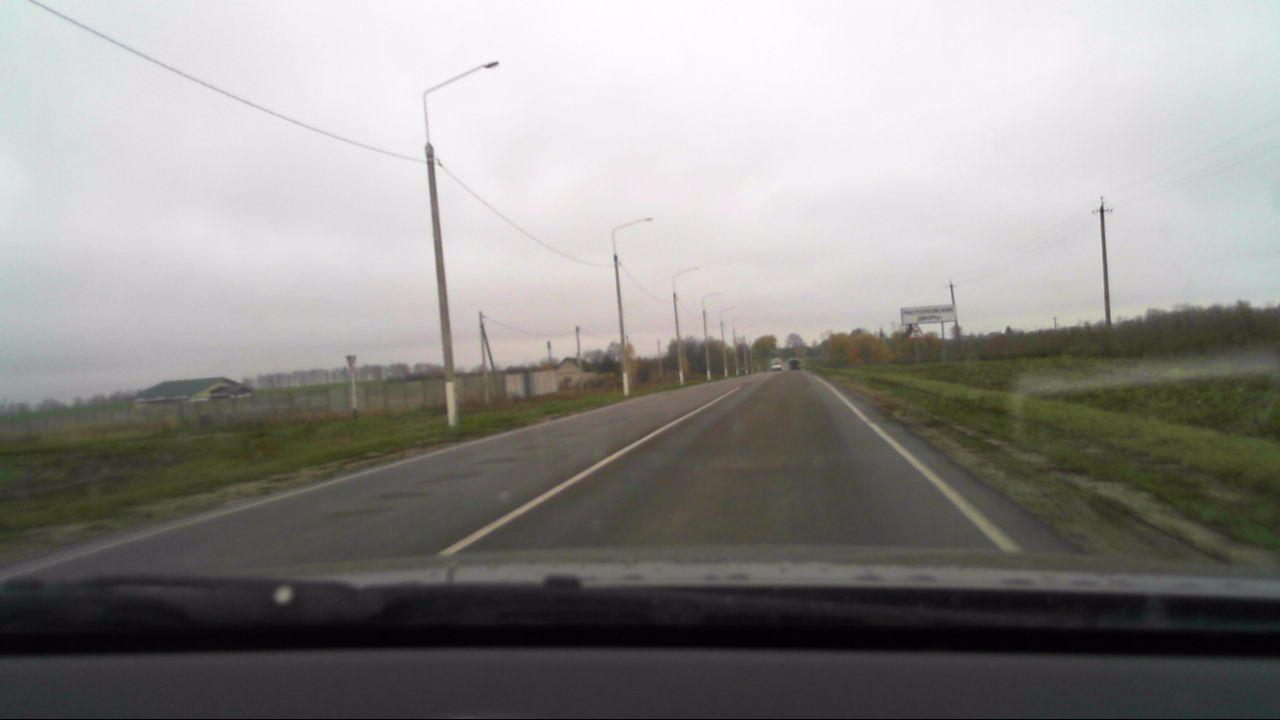1_15: (908, 321, 928, 340)
